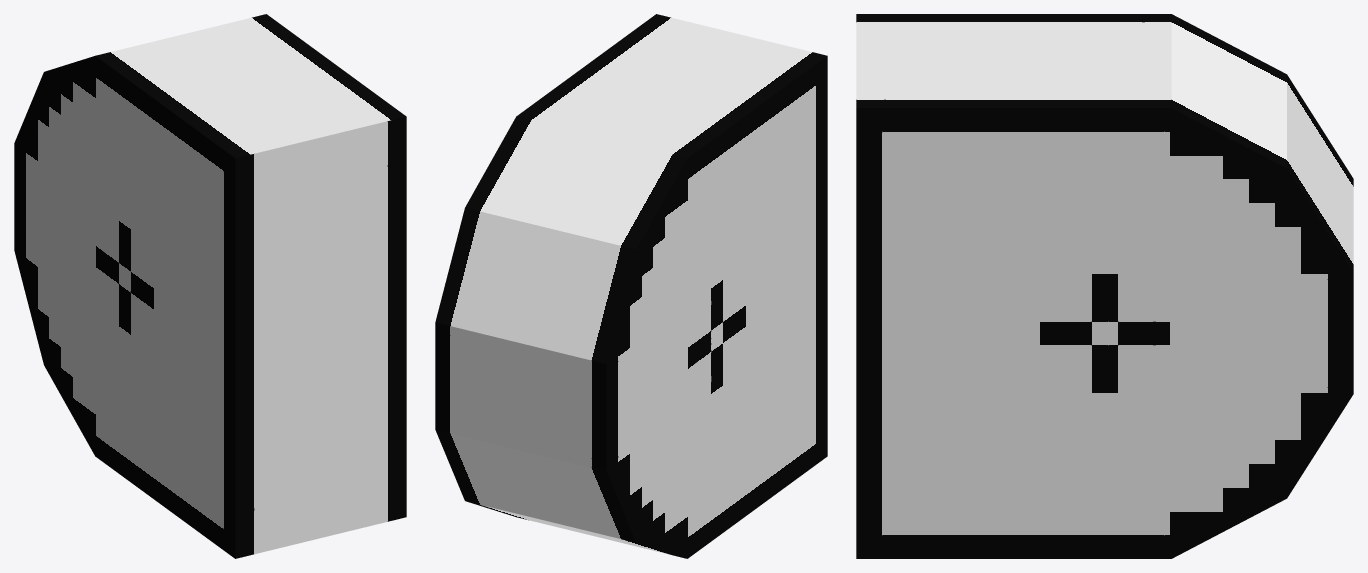
File: hexagonal.gltf
The picture shows the model from 3 angles, left to right: view 1: azimuth 30°, elevation 25°; view 2: azimuth 150°, elevation 25°; view 3: azimuth 270°, elevation 25°; orthographic projection. The views are drawn at different scales.
Visible parts, largest first — view 1: cylinder; view 2: cylinder; view 3: cylinder.
Boxes of the visible parts, <box> form: cylinder: <box>14,14,406,558</box>; cylinder: <box>435,14,827,558</box>; cylinder: <box>856,14,1353,558</box>.
Bounding box in the file's own units: 0.5312 × 1.19 × 1.19.
Materials: 1 (1 with a texture image).
